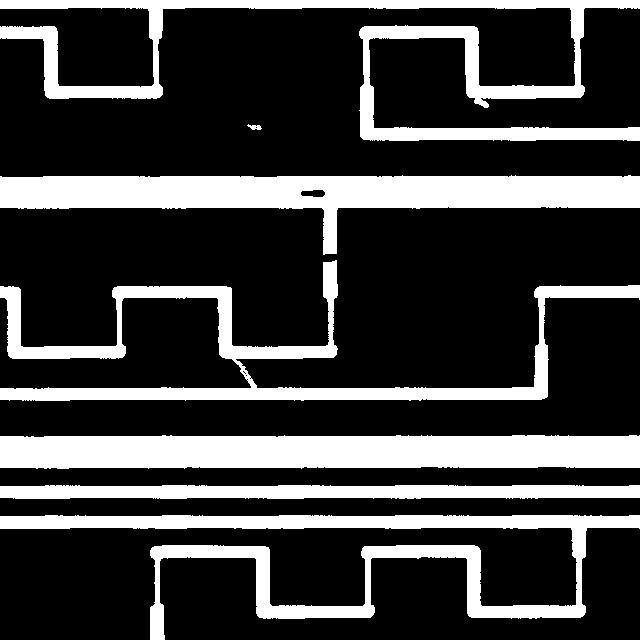copper: (291, 180, 334, 206)
mousebite: (464, 84, 498, 117)
open: (222, 348, 266, 402)
pin-hole: (237, 114, 271, 139)
short: (307, 244, 348, 271)
